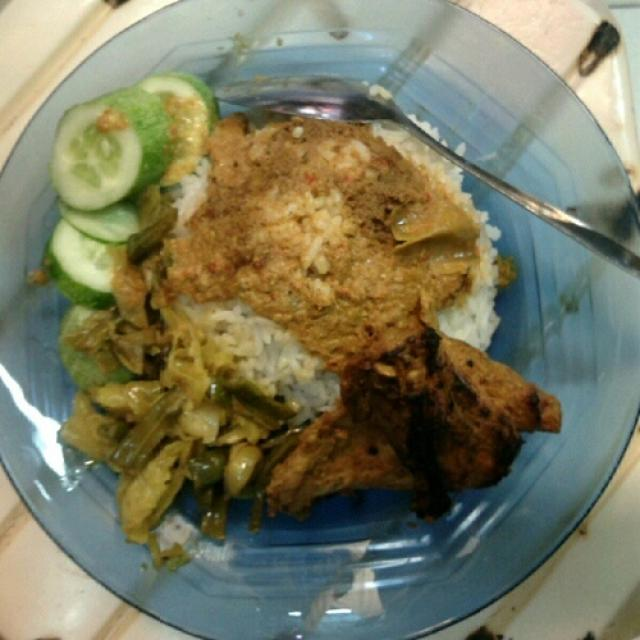米饭主食: (15, 10, 621, 613)
